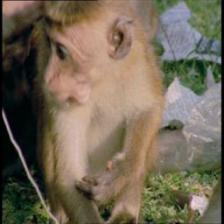monkey: (32, 3, 126, 113)
